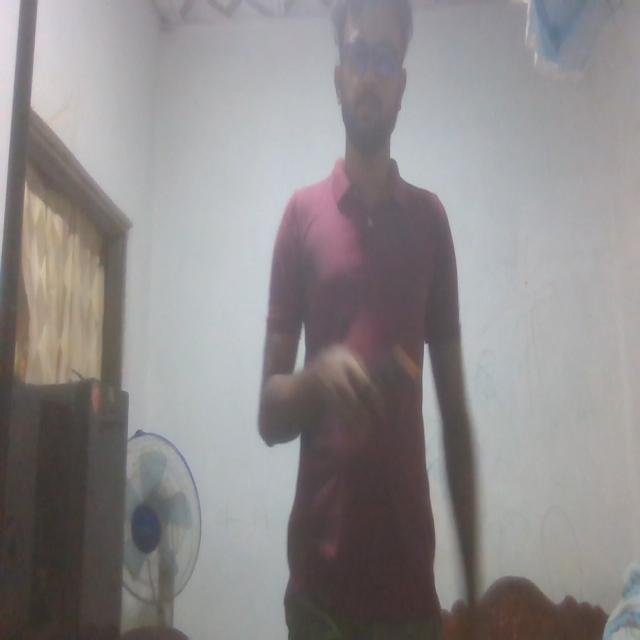Gun_Holder: (340, 347, 434, 439)
Person: (258, 6, 478, 640)
